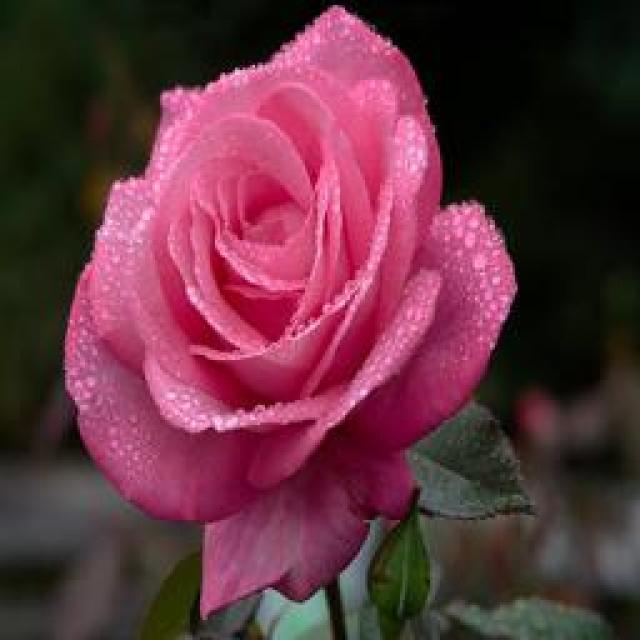rose: (58, 6, 558, 598)
